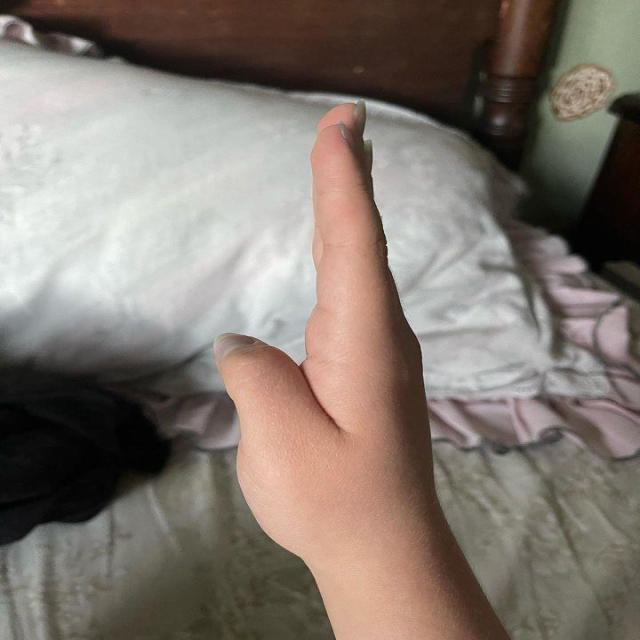B: (204, 95, 442, 567)
